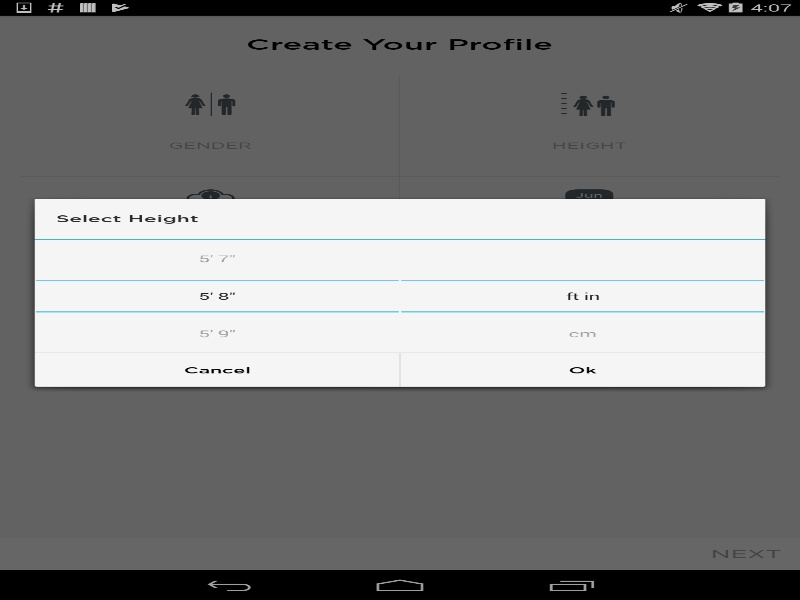Button: (401, 311, 764, 352), (36, 240, 398, 281), (36, 311, 398, 352), (34, 353, 399, 386), (400, 353, 765, 386)
Input: (401, 281, 764, 311), (36, 281, 398, 311)
